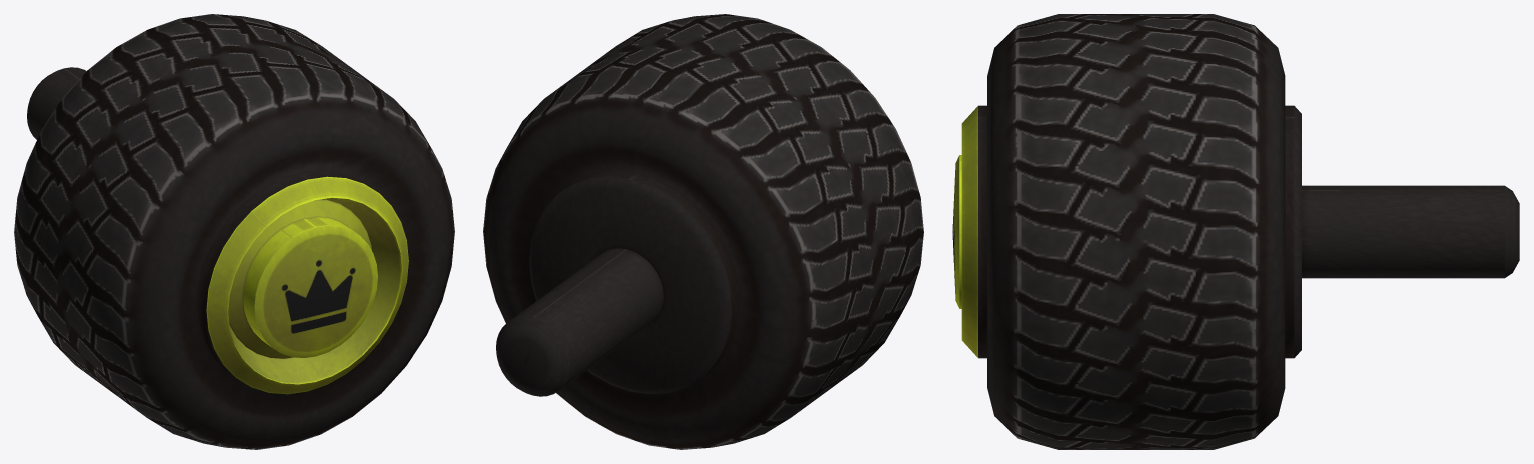
The model's file is kaiserkong_wheel3.obj.
The picture shows the model from 3 angles, left to right: view 1: azimuth 30°, elevation 25°; view 2: azimuth 150°, elevation 25°; view 3: azimuth 270°, elevation 25°; orthographic projection. The views are drawn at different scales.
Visible parts, largest first — view 1: wheels_low_Wheel_low.003; view 2: wheels_low_Wheel_low.003; view 3: wheels_low_Wheel_low.003.
Part boxes in pixels (x1=…): wheels_low_Wheel_low.003: x1=14, y1=14, x2=454, y2=449; wheels_low_Wheel_low.003: x1=483, y1=14, x2=923, y2=449; wheels_low_Wheel_low.003: x1=952, y1=14, x2=1519, y2=449.
Size of the model in its own units: 1.17 by 1.17 by 1.52.
1 material, 1 textured.
